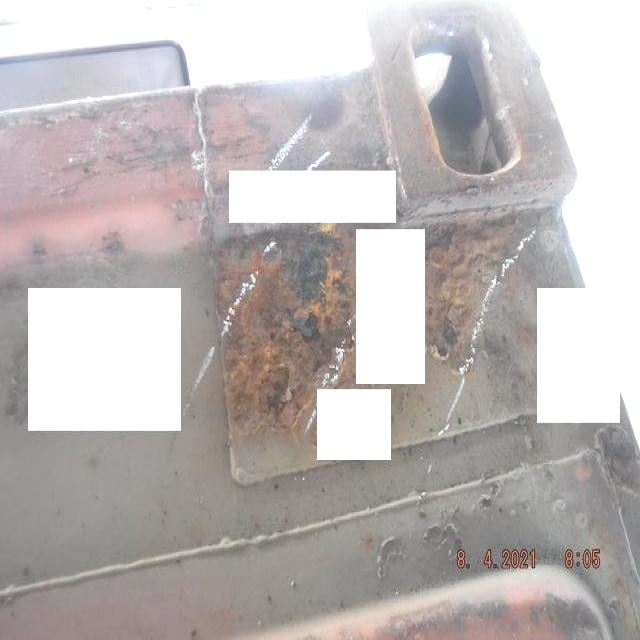Rusty: (222, 225, 355, 441), (429, 225, 512, 374), (595, 425, 640, 501)
